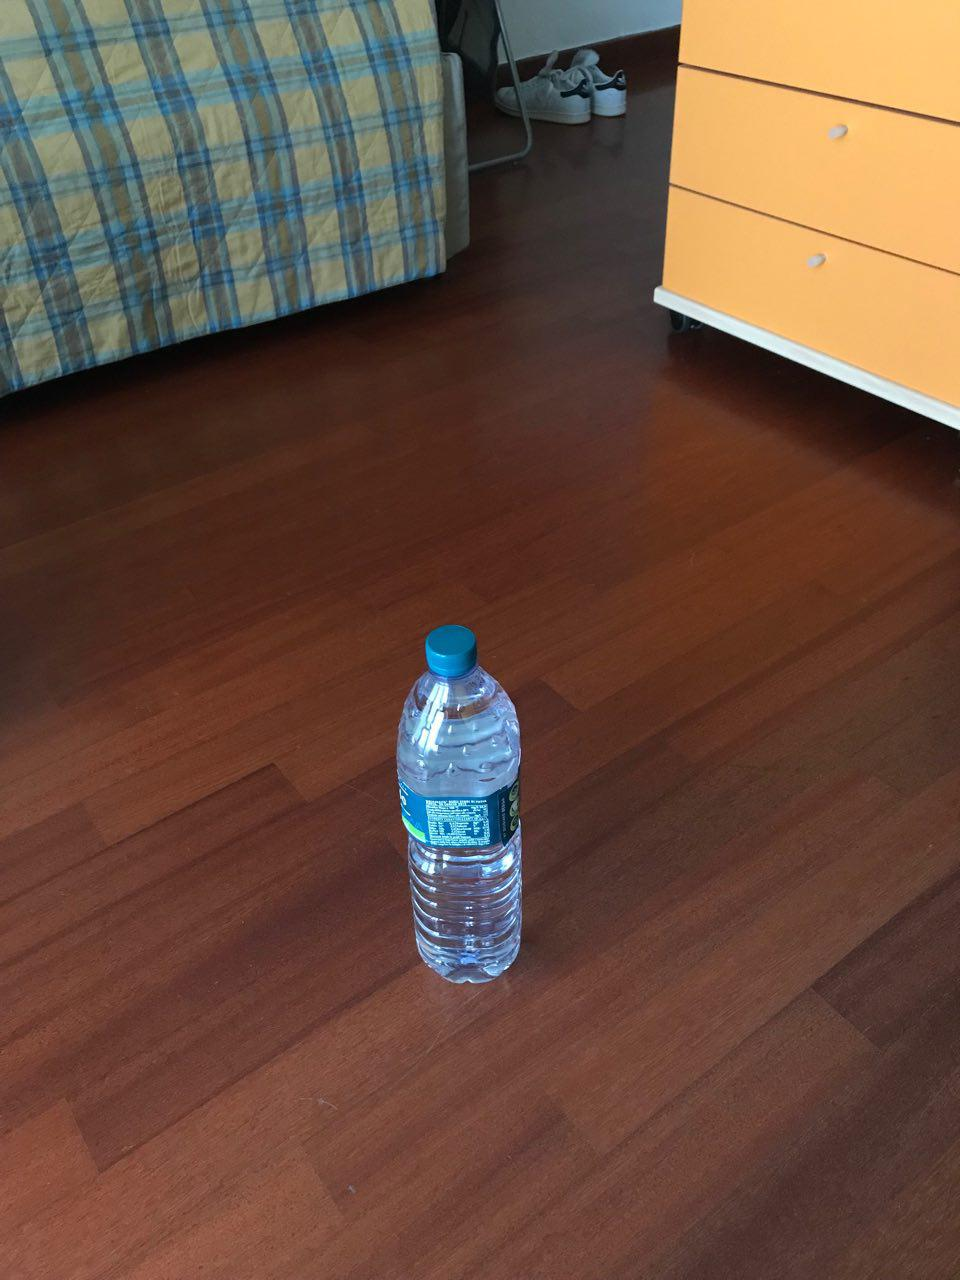san_bernardo: (391, 624, 525, 987)
